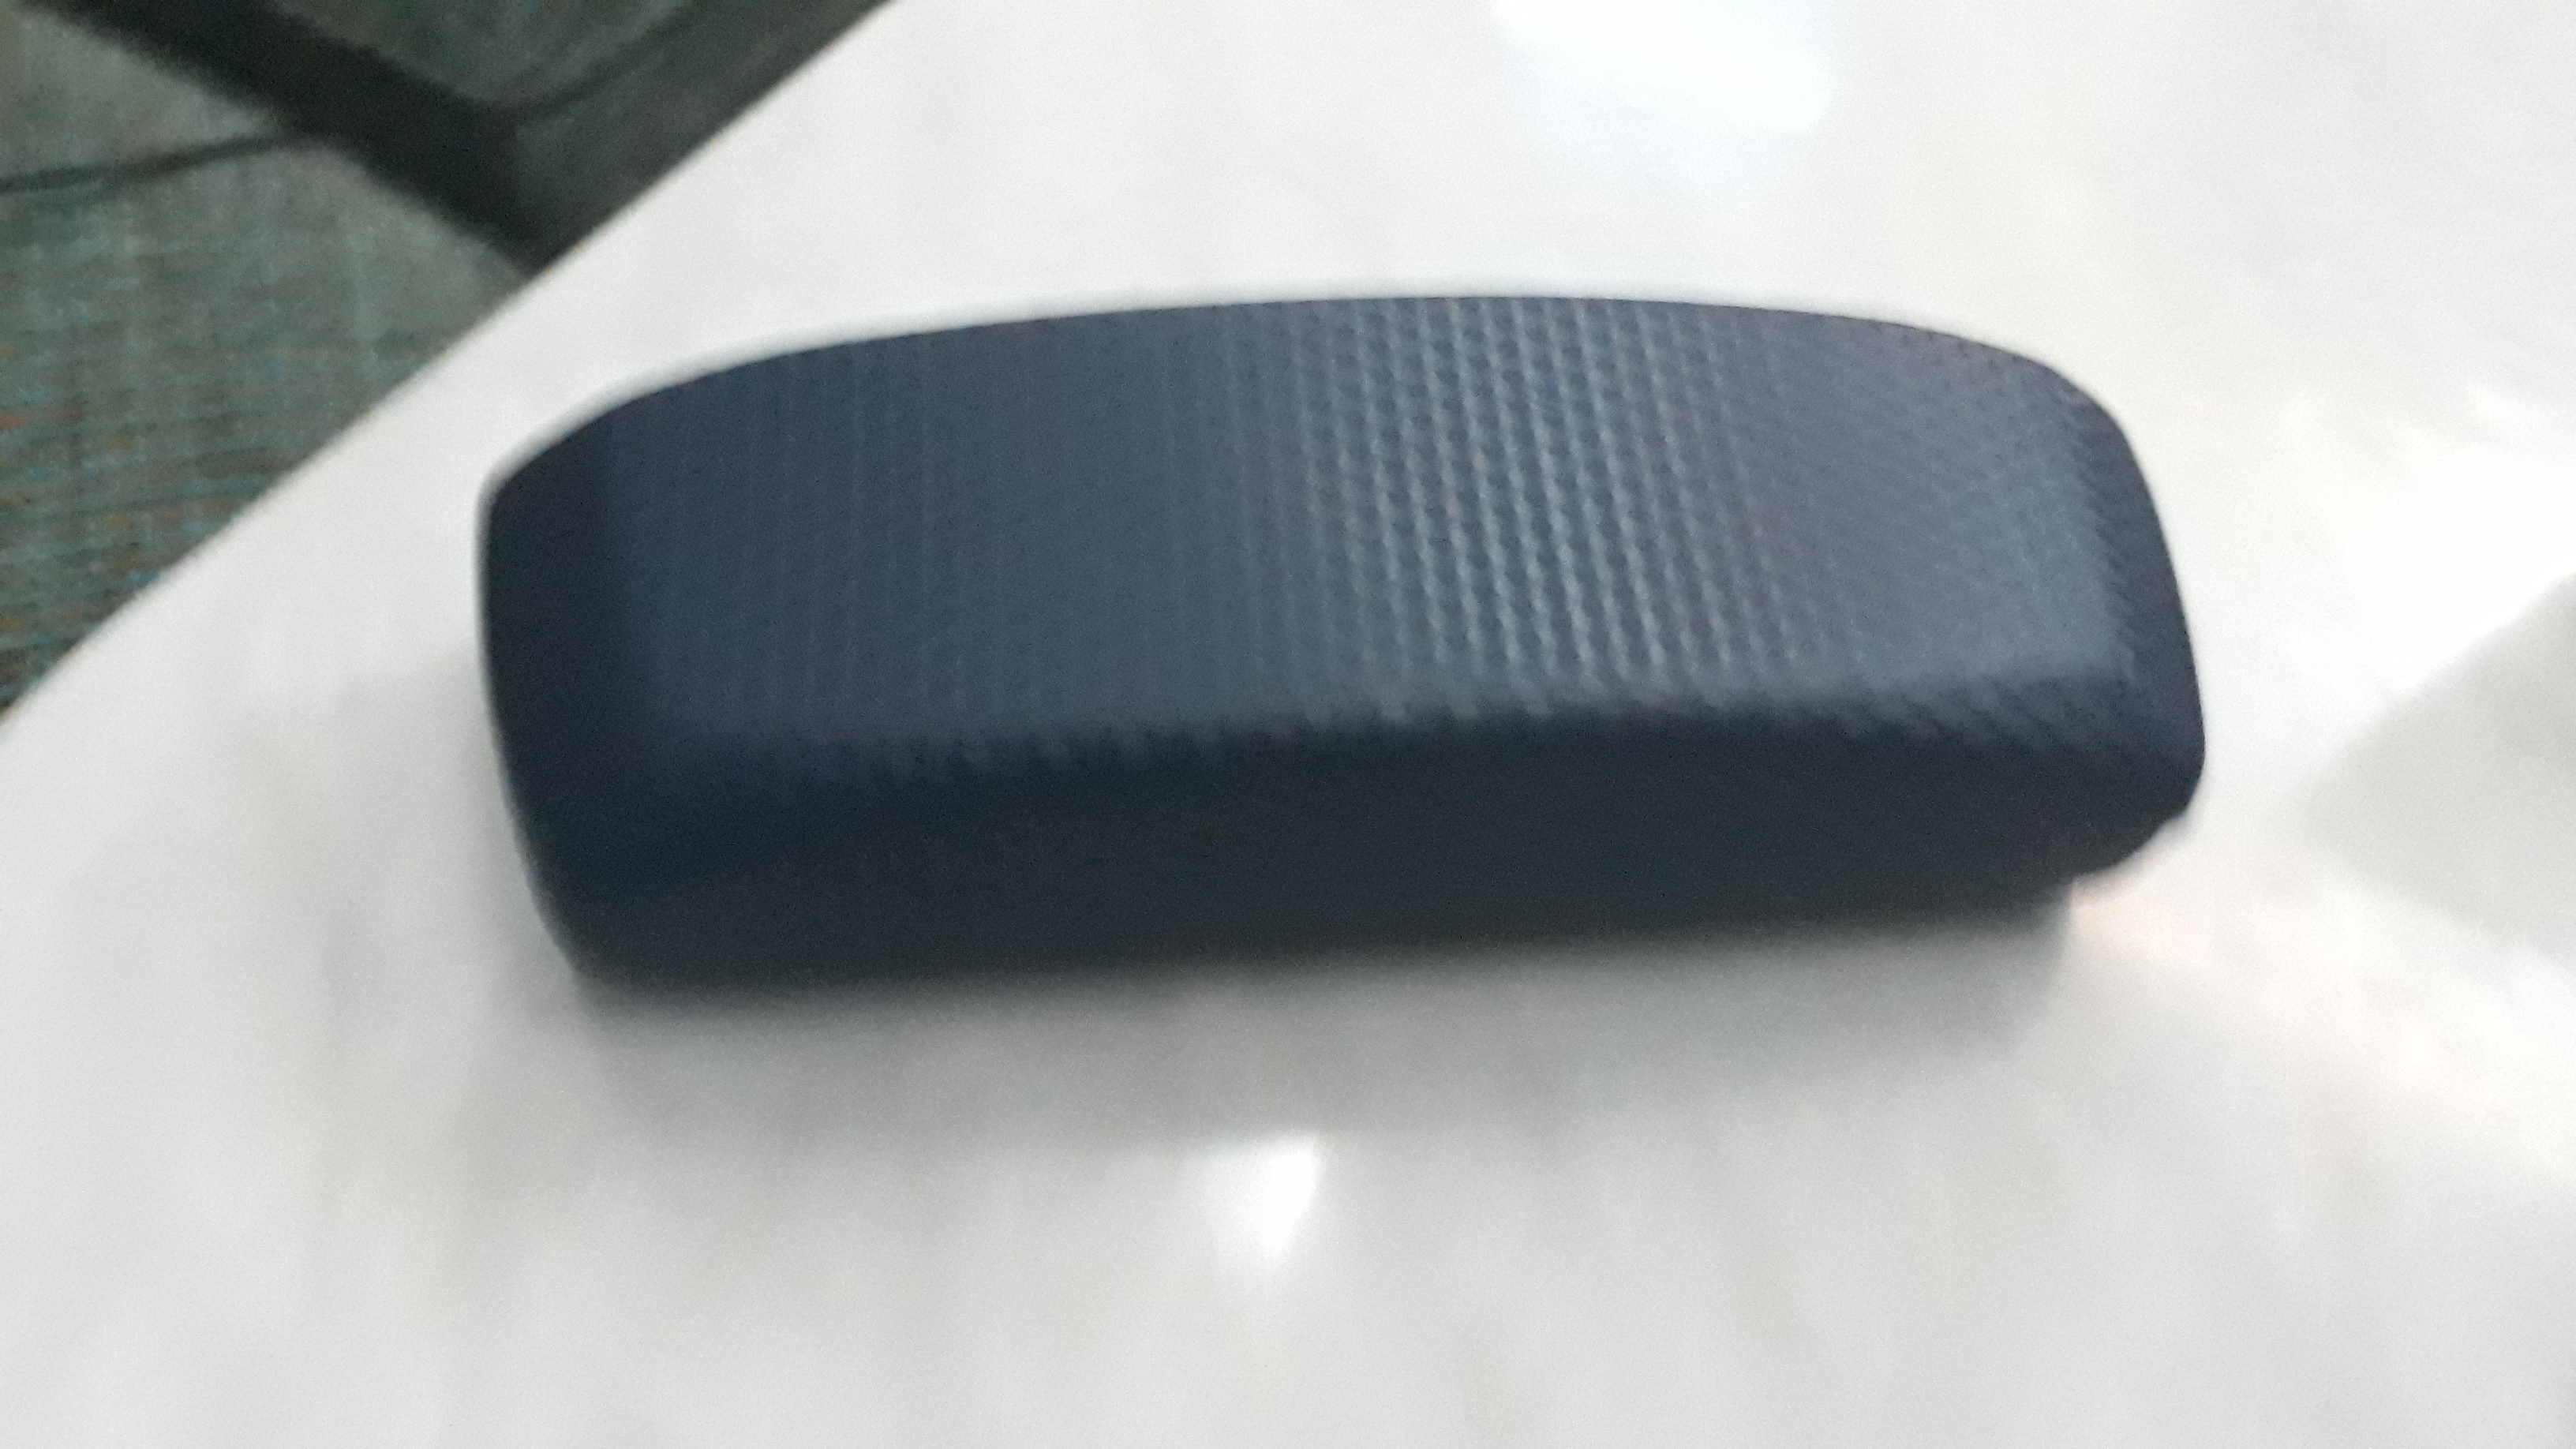nadar: (426, 283, 2190, 1046)
